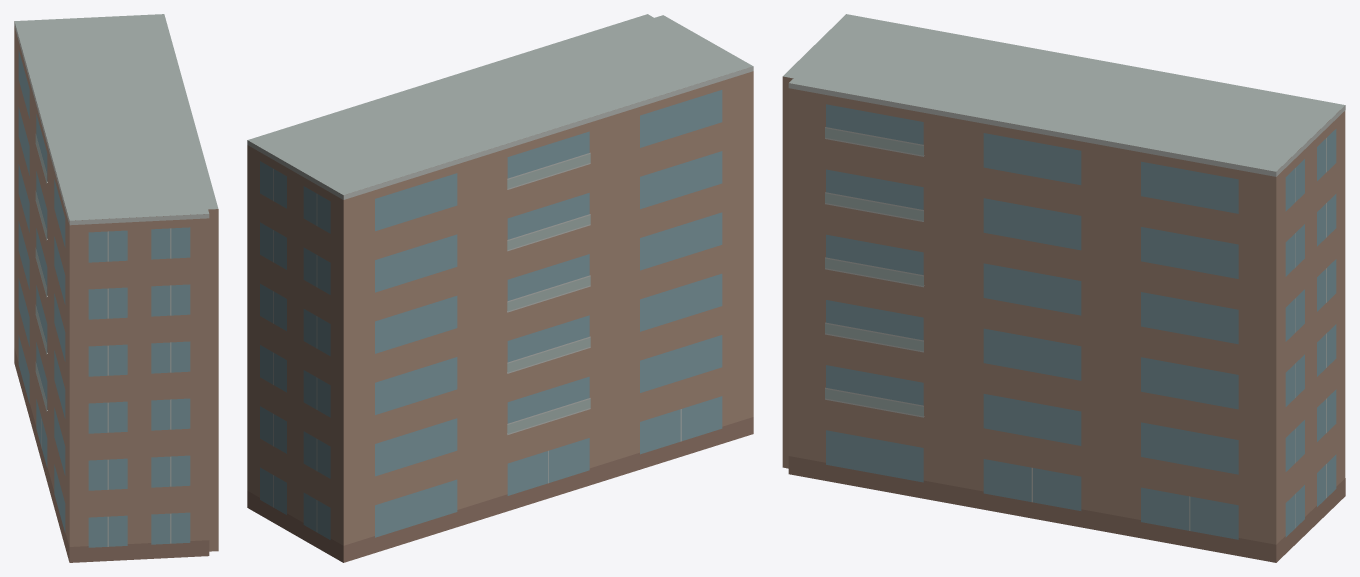
The model's file is survey-upis-32564115.glb.
The picture shows the model from 3 angles, left to right: view 1: azimuth 30°, elevation 25°; view 2: azimuth 150°, elevation 25°; view 3: azimuth 270°, elevation 25°; orthographic projection. The views are drawn at different scales.
Parts seen in each view (by area): view 1: survey-upis-32564115.tmp; view 2: survey-upis-32564115.tmp; view 3: survey-upis-32564115.tmp.
Part boxes in pixels (left/top/right/bottom): survey-upis-32564115.tmp: left=14, top=14, right=218, bottom=562; survey-upis-32564115.tmp: left=247, top=14, right=753, bottom=562; survey-upis-32564115.tmp: left=782, top=14, right=1345, bottom=562.
Size of the model in its own units: 16.02 by 18.5 by 24.14.
